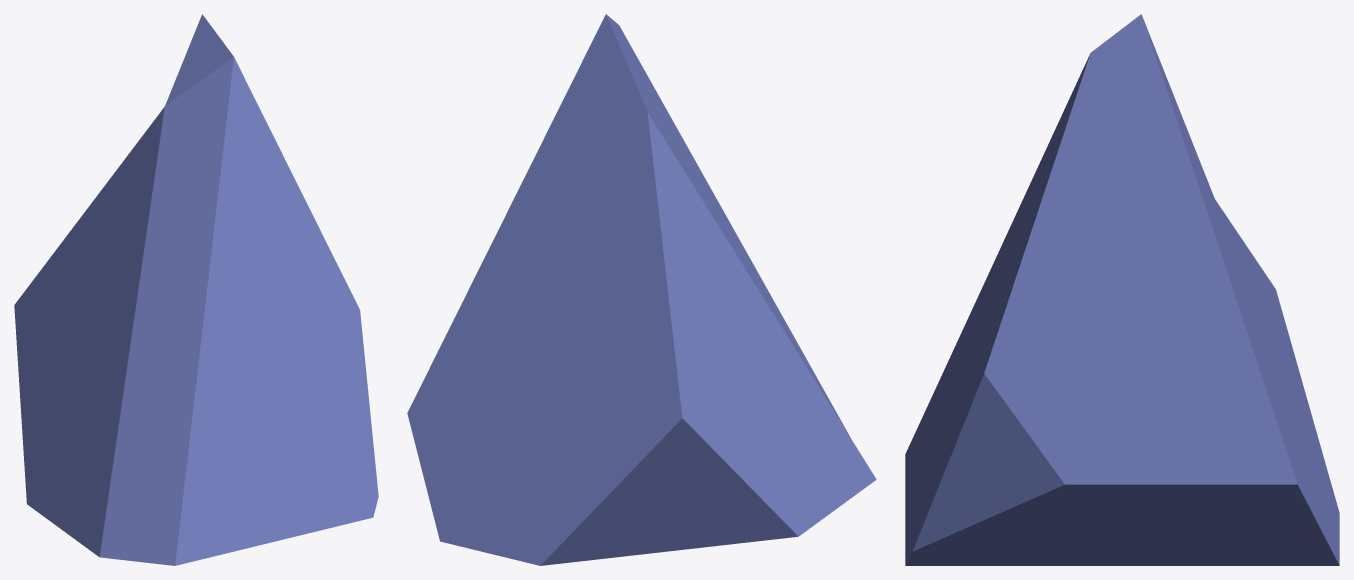
Rendered from Ice Crystal B.fbx.
3 renders of one model, left to right at view 1: azimuth 30°, elevation 25°; view 2: azimuth 150°, elevation 25°; view 3: azimuth 270°, elevation 25°, orthographic. The views are drawn at different scales.
Visible parts, largest first — view 1: Ice Crystal B; view 2: Ice Crystal B; view 3: Ice Crystal B.
Boxes of the visible parts, left/top/right/bottom form: Ice Crystal B: left=14, top=14, right=378, bottom=565; Ice Crystal B: left=407, top=14, right=876, bottom=565; Ice Crystal B: left=905, top=14, right=1339, bottom=565.
Bounding box in the file's own units: 2.27 × 3.28 × 2.51.
